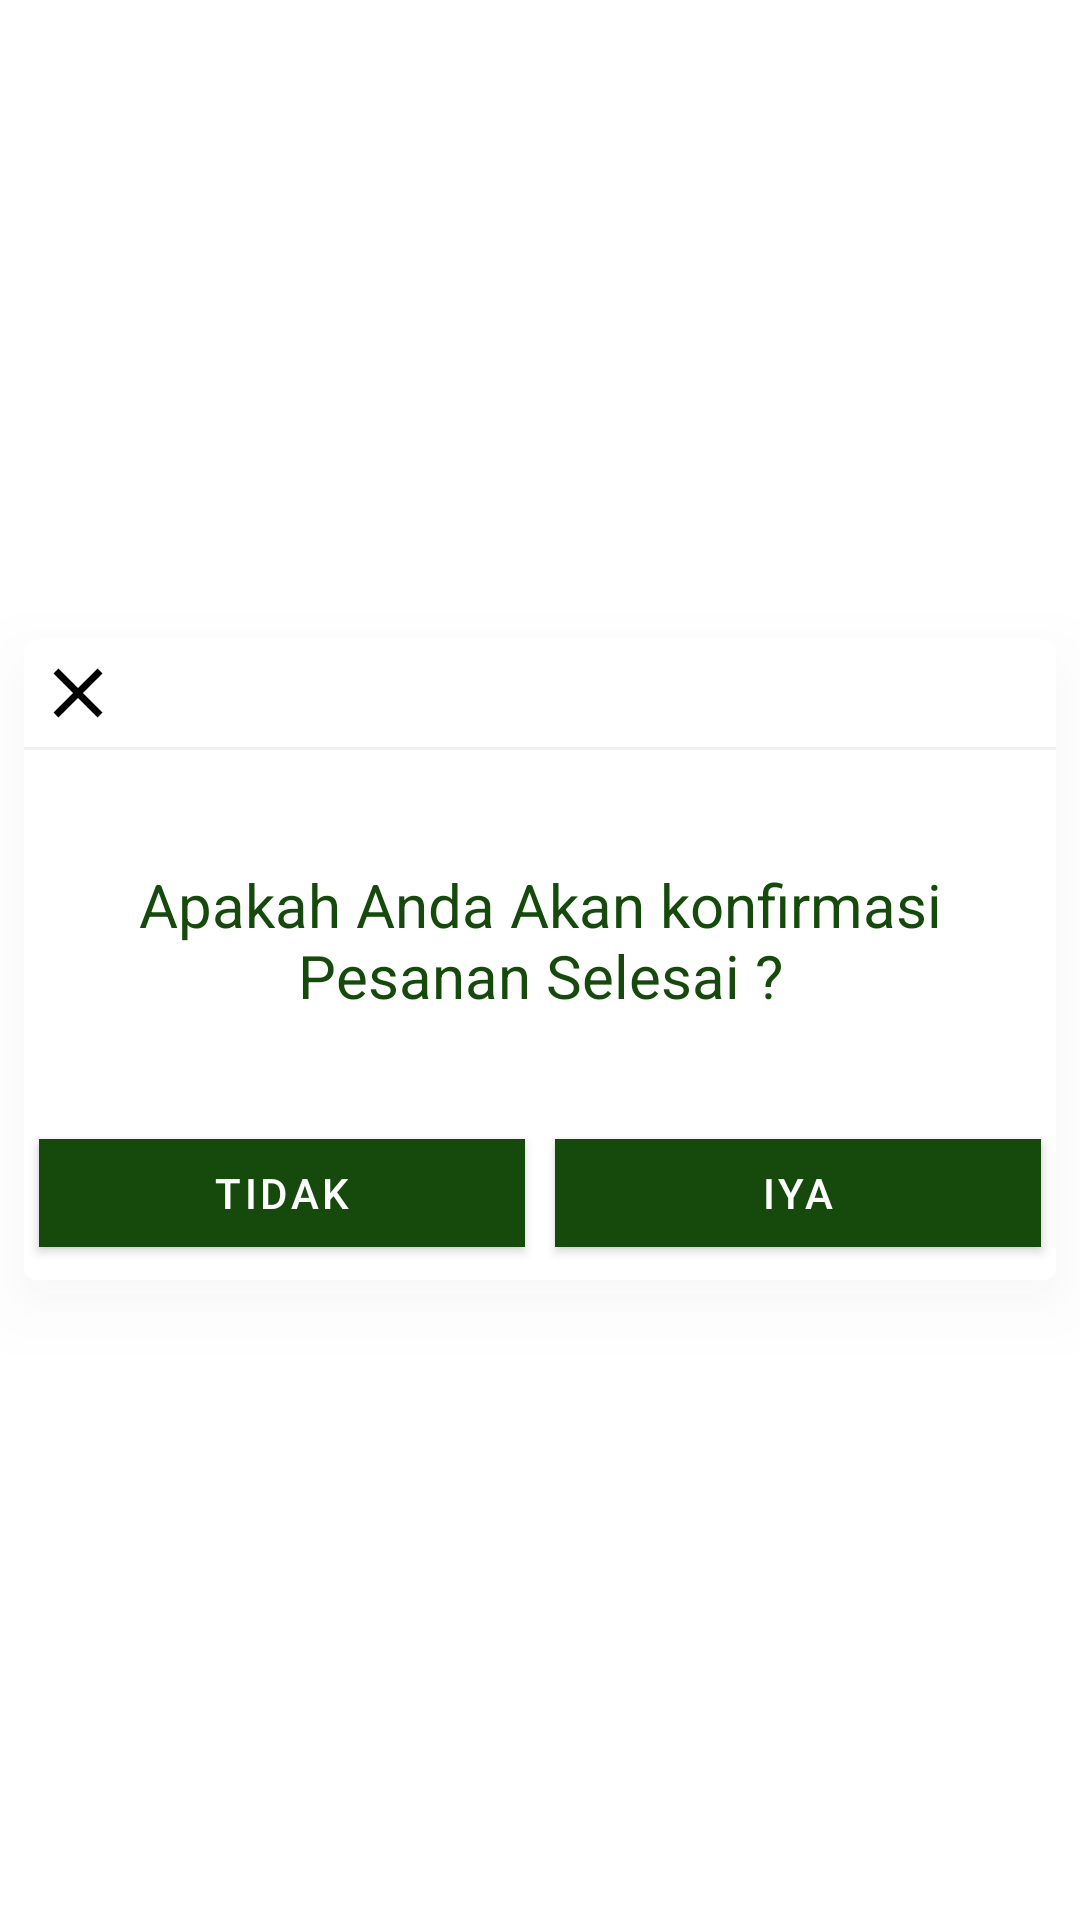

Icons on this 1080 × 1920 Android screen, each with the point to tap as (x,y):
close: (78,693)
